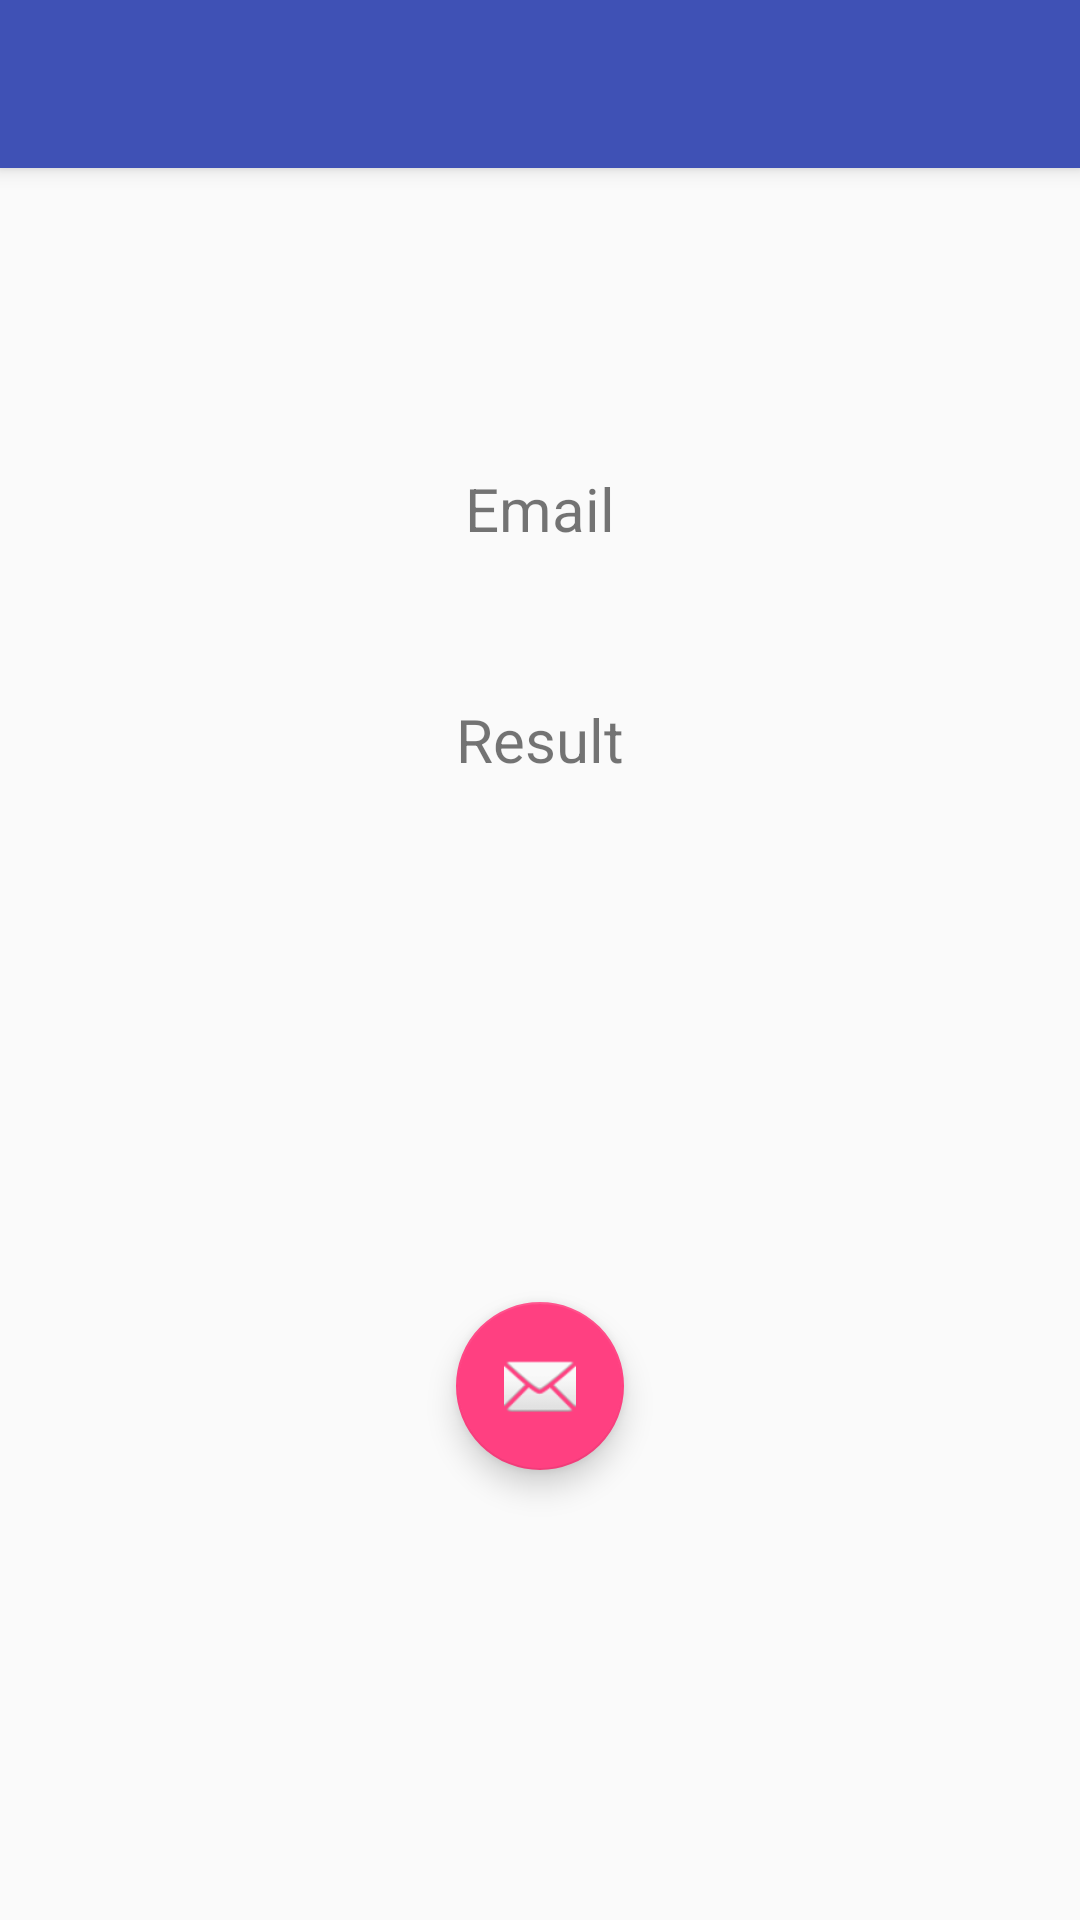

Screen size 1080 × 1920. Icon name, then its center in pixels as (x=x, y=y):
email: (x=540, y=1386)
